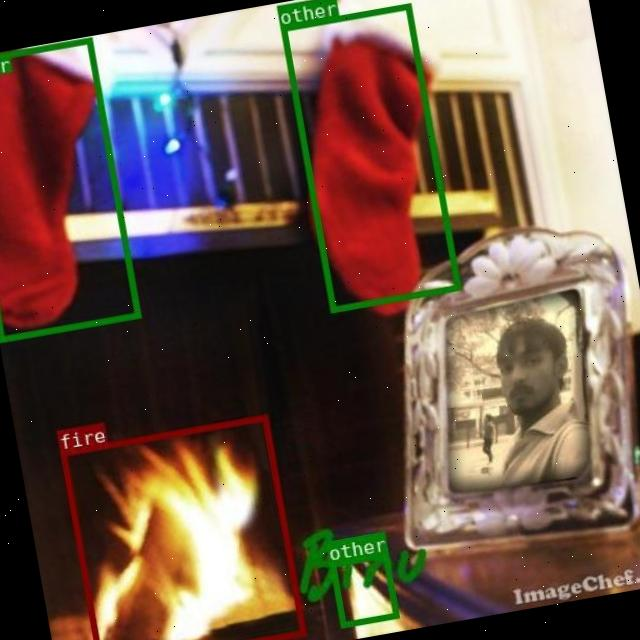fire: (59, 413, 304, 640)
